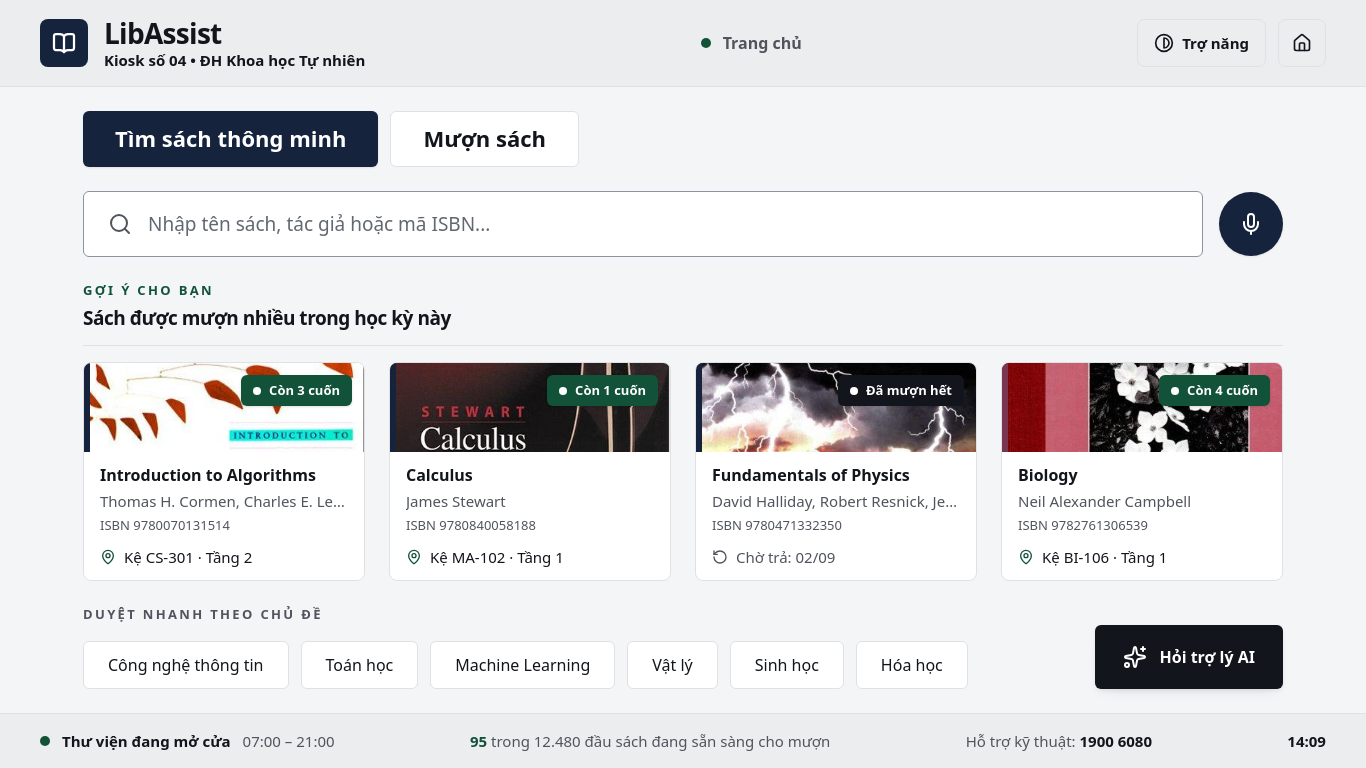
Test: App routing › opens the search screen when the home search bar is tapped
Click the search field at [663, 224], box [148,192,1178,256]
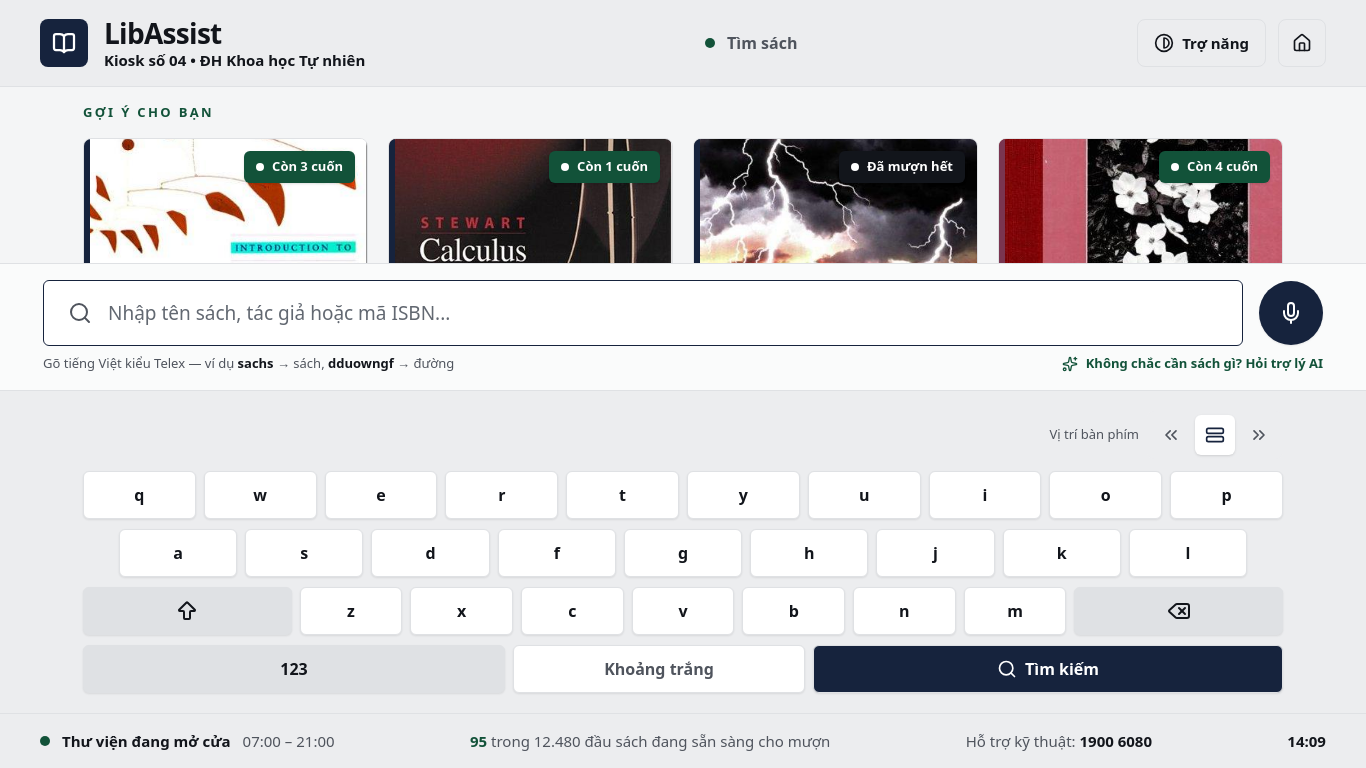
Result: the element named "Bàn phím ảo" is shown at [0,390,1365,712]
